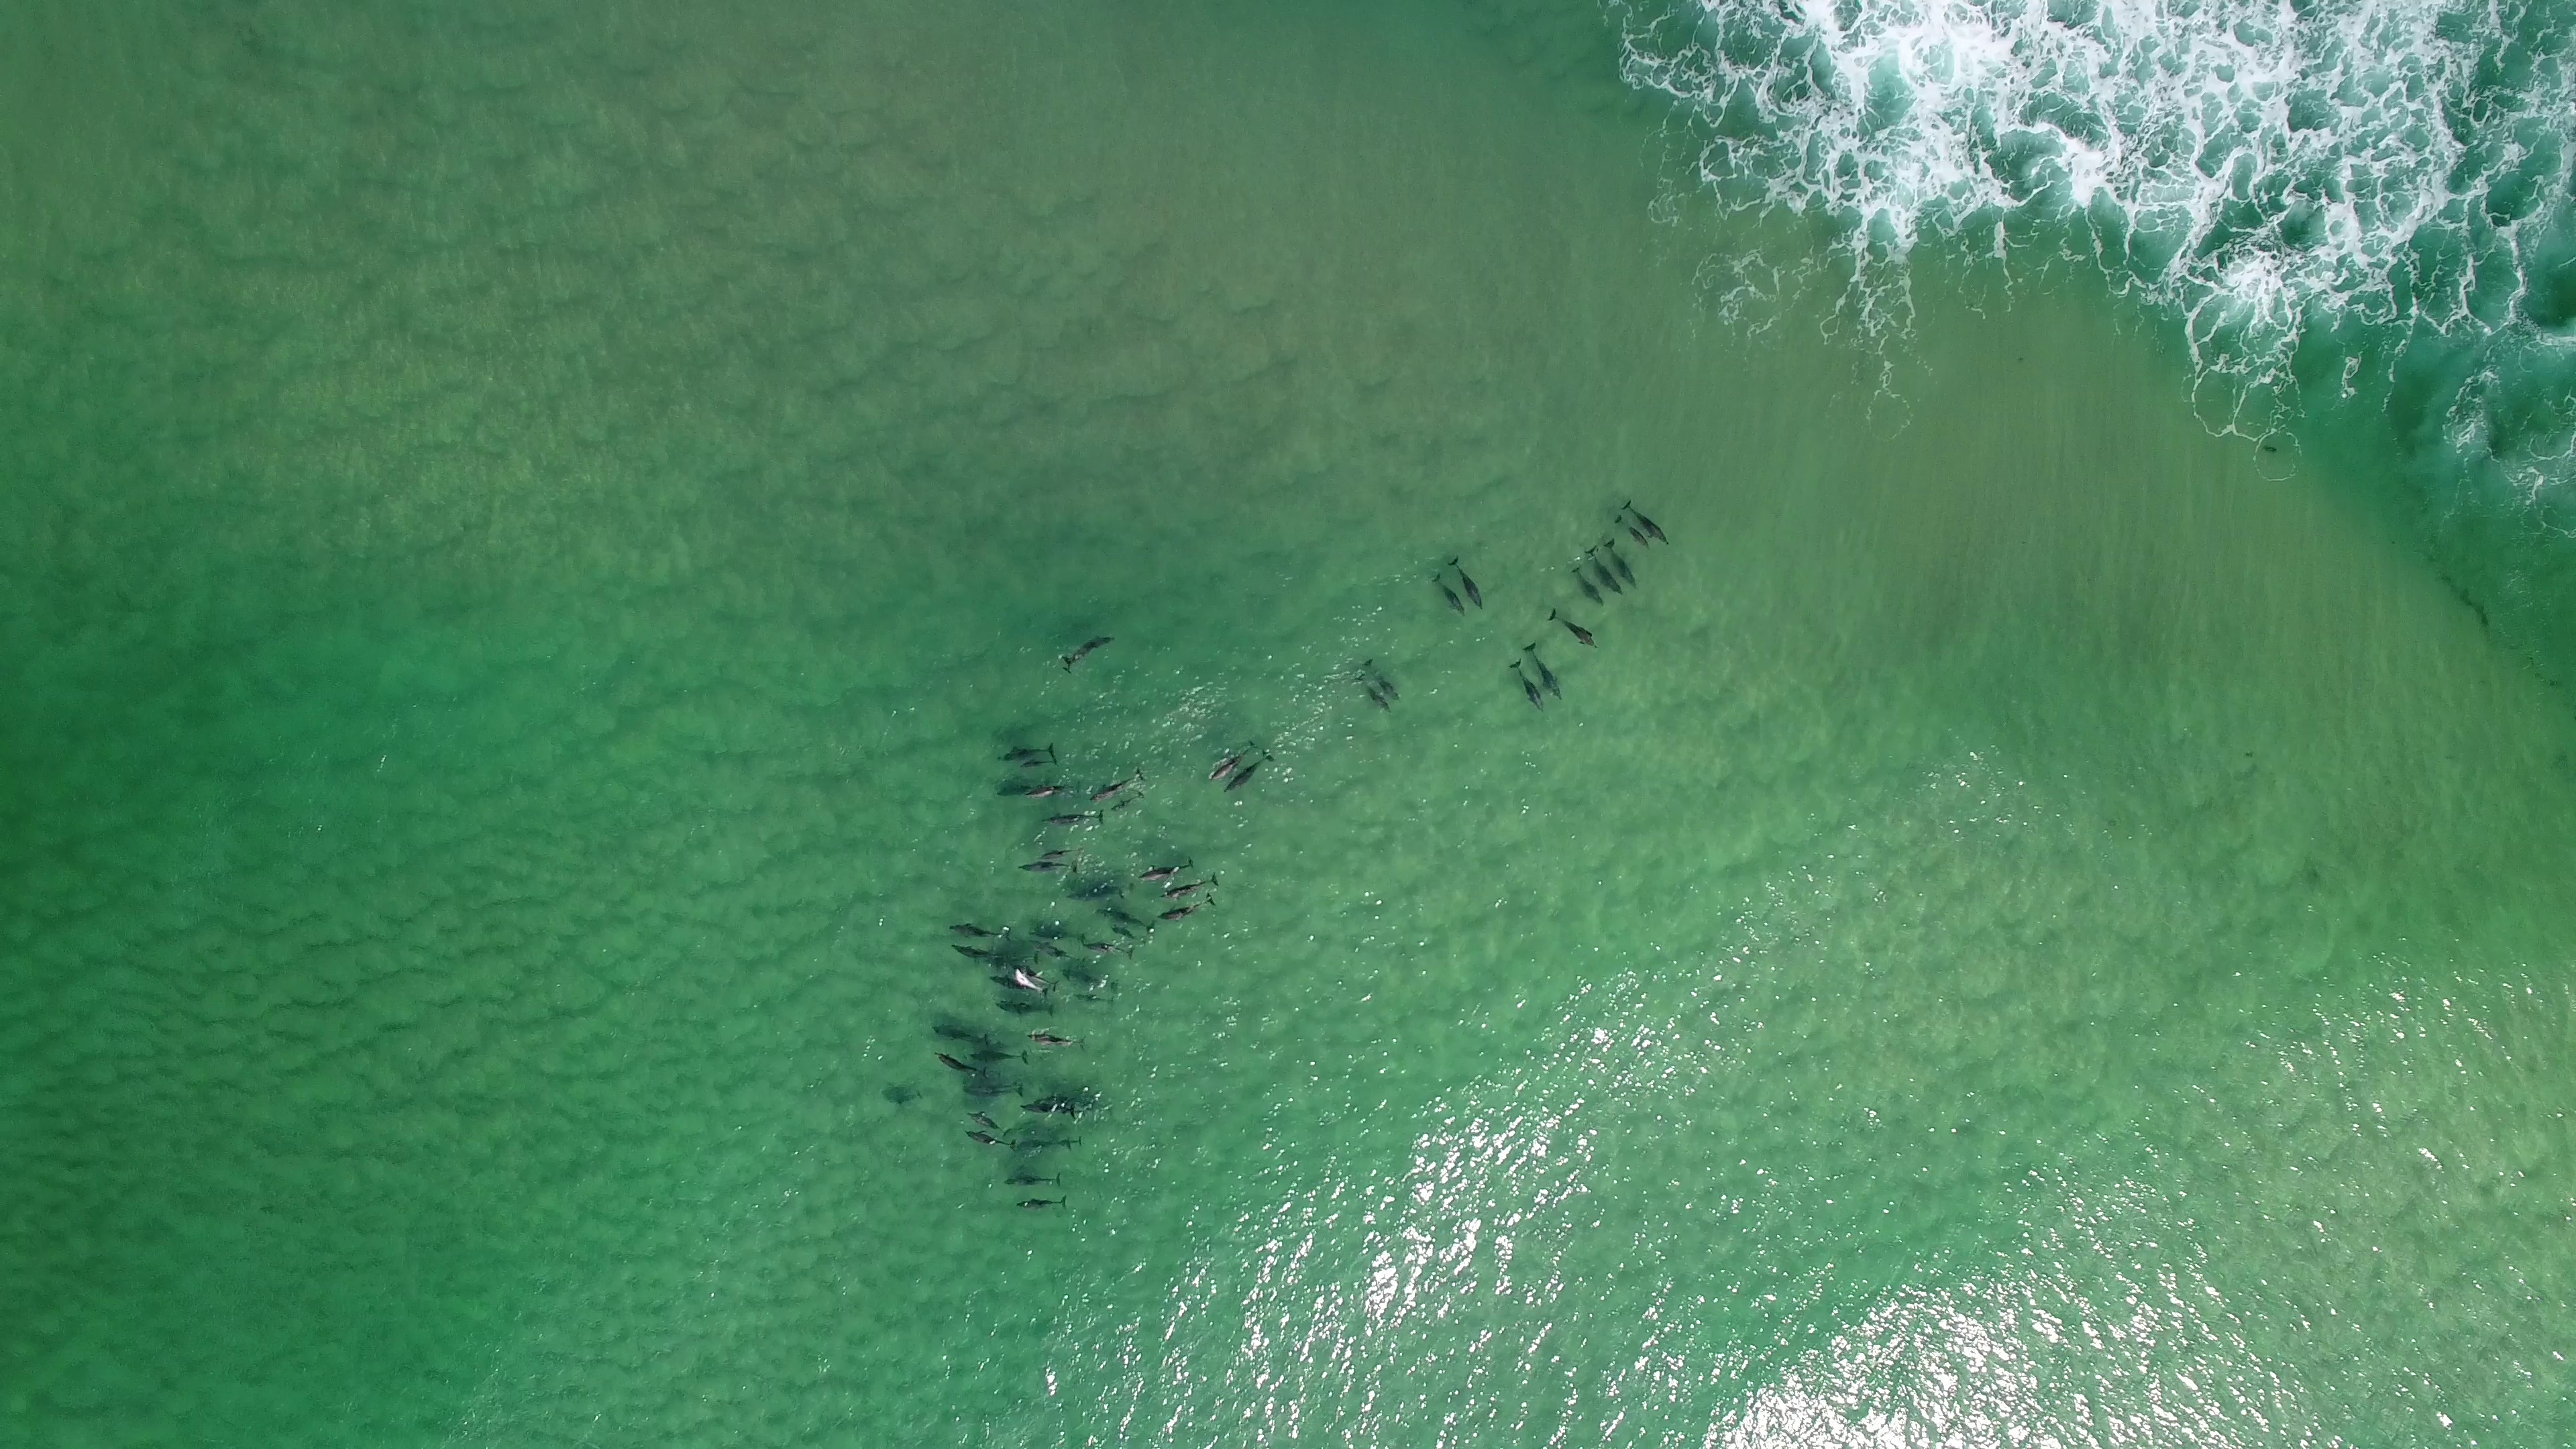dolphin: (1520, 642, 1568, 702), (1442, 557, 1491, 610), (1224, 747, 1277, 794), (1619, 499, 1672, 545), (1208, 738, 1261, 784), (1550, 605, 1601, 651), (1086, 766, 1143, 807), (1507, 660, 1546, 715), (929, 1046, 991, 1079), (1069, 874, 1138, 904), (1583, 547, 1624, 596), (1362, 655, 1403, 704), (1062, 630, 1118, 663), (1430, 573, 1468, 621), (1092, 902, 1157, 931), (1162, 869, 1223, 899), (1159, 892, 1217, 922), (1141, 853, 1196, 885), (1605, 538, 1638, 589), (1355, 672, 1394, 717), (948, 938, 1007, 966), (1030, 936, 1085, 966), (1060, 637, 1104, 674), (1024, 1028, 1092, 1051), (1044, 1092, 1106, 1116), (931, 1019, 993, 1044), (1569, 568, 1606, 609), (1010, 964, 1060, 994), (994, 740, 1058, 763), (996, 775, 1054, 800), (1016, 1136, 1090, 1155), (1028, 778, 1085, 803), (994, 994, 1054, 1017), (1039, 809, 1108, 828), (1017, 1099, 1076, 1122), (1615, 511, 1651, 548), (1079, 936, 1141, 957), (964, 1109, 1014, 1136), (943, 922, 1014, 939), (970, 1044, 1028, 1065), (1062, 964, 1111, 989), (1017, 858, 1086, 876), (962, 1129, 1014, 1152), (1037, 840, 1086, 863), (1005, 1169, 1063, 1189), (987, 971, 1040, 993), (964, 1081, 1024, 1099), (1113, 787, 1152, 814), (1030, 924, 1085, 941), (1113, 924, 1152, 947), (1014, 1194, 1069, 1210), (883, 1085, 922, 1106), (1019, 755, 1062, 770), (1074, 991, 1115, 1003)
